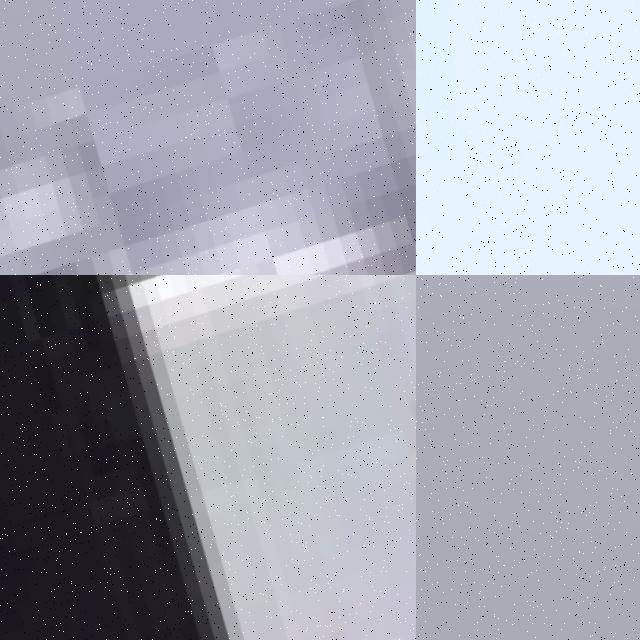drone: (0, 275, 416, 640), (0, 0, 416, 275)
